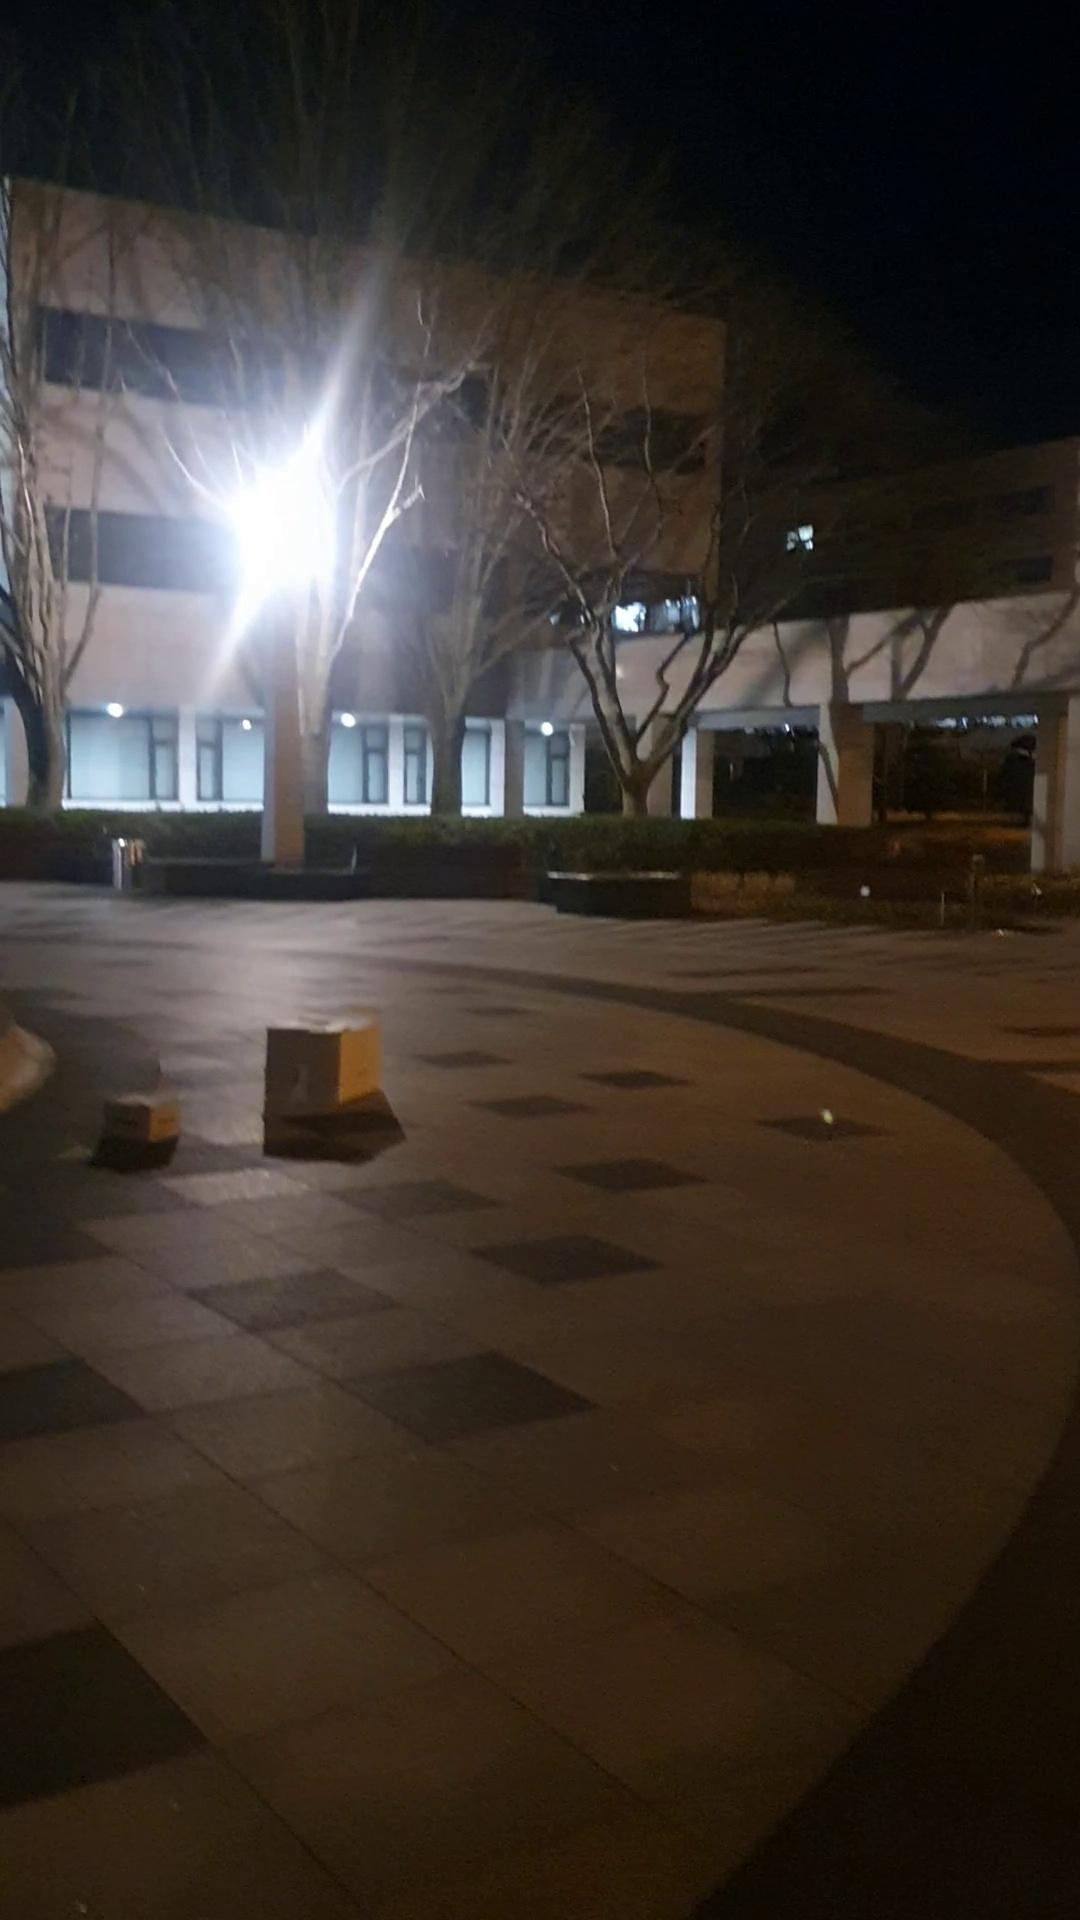Box: (268, 1004, 385, 1116), (98, 1083, 190, 1155)
